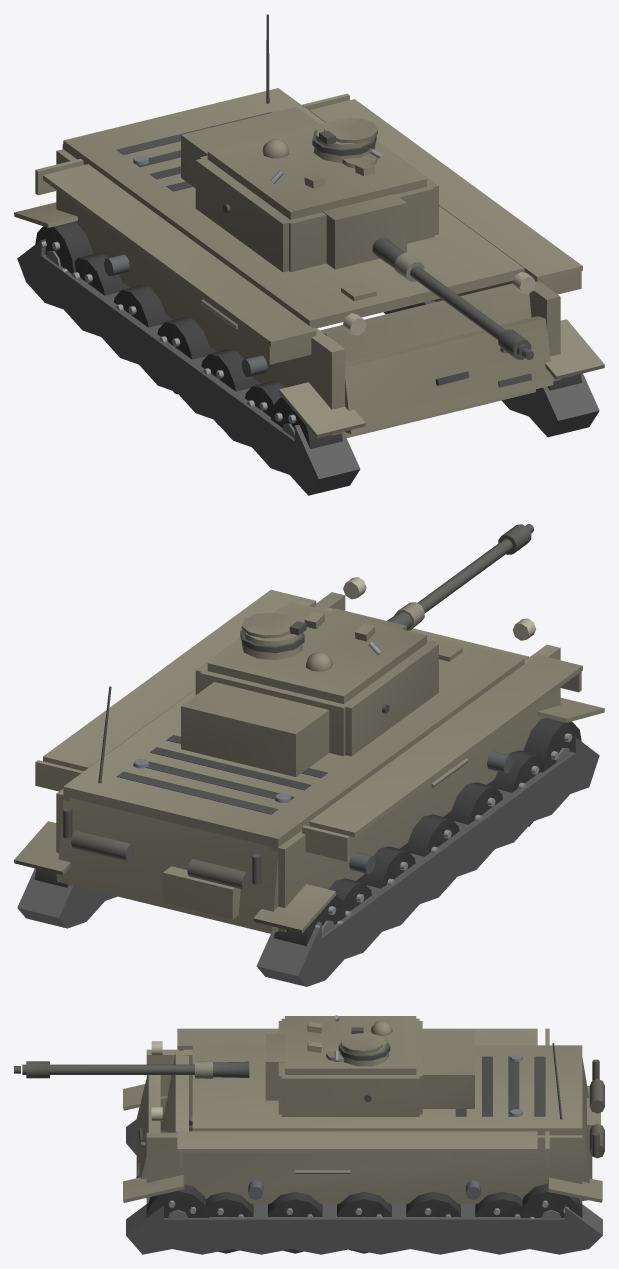
The model's file is cromwell.glb.
3 renders of one model, top to bottom at view 1: azimuth 30°, elevation 25°; view 2: azimuth 150°, elevation 25°; view 3: azimuth 270°, elevation 25°, orthographic. The views are drawn at different scales.
Visible parts, largest first — view 1: hullSide, hullTop, tracks, lowerPlate, turretRoof, glacis, turretFront, turretSide, mantlet, barrel, wheel6, wheel2 (+5 smaller); view 2: hullSide, hullTop, tracks, hullRear, turretRoof, turretFront, turretSide, barrel, turretRear, wheel5, wheel2, wheel3 (+5 smaller); view 3: hullSide, tracks, hullTop, turretRoof, turretSide, turretFront, barrel, hullRear, glacis, wheel12, wheel13, lowerPlate (+7 smaller).
Boxes of the visible parts, <box> form: hullSide: <box>35,93,582,435</box>; hullTop: <box>63,88,524,328</box>; tracks: <box>14,202,604,495</box>; lowerPlate: <box>345,316,553,434</box>; turretRoof: <box>207,118,426,219</box>; glacis: <box>320,282,535,437</box>; turretFront: <box>181,107,434,271</box>; turretSide: <box>195,140,438,272</box>; mantlet: <box>322,194,406,269</box>; barrel: <box>372,237,533,359</box>; wheel6: <box>35,221,93,273</box>; wheel2: <box>157,317,216,394</box>; hullSide: <box>35,577,582,932</box>; hullTop: <box>63,606,524,847</box>; tracks: <box>14,697,604,986</box>; hullRear: <box>57,686,279,933</box>; turretRoof: <box>207,602,426,704</box>; turretFront: <box>181,639,434,776</box>; turretSide: <box>195,606,438,756</box>; barrel: <box>387,524,533,630</box>; turretRear: <box>200,668,349,756</box>; wheel5: <box>523,718,581,772</box>; wheel2: <box>400,814,459,856</box>; wheel3: <box>443,782,502,824</box>; hullSide: <box>146,1028,582,1203</box>; tracks: <box>123,1084,602,1254</box>; hullTop: <box>192,1045,582,1135</box>; turretRoof: <box>285,1015,416,1074</box>; turretSide: <box>281,1018,419,1116</box>; turretFront: <box>278,1021,474,1114</box>; barrel: <box>14,1060,249,1078</box>; hullRear: <box>552,1043,604,1200</box>; glacis: <box>136,1053,188,1178</box>; wheel12: <box>146,1184,208,1218</box>; wheel13: <box>520,1183,582,1219</box>; lowerPlate: <box>136,1075,160,1198</box>.
Bounding box in the file's own units: 4.12 × 3.02 × 8.55.
